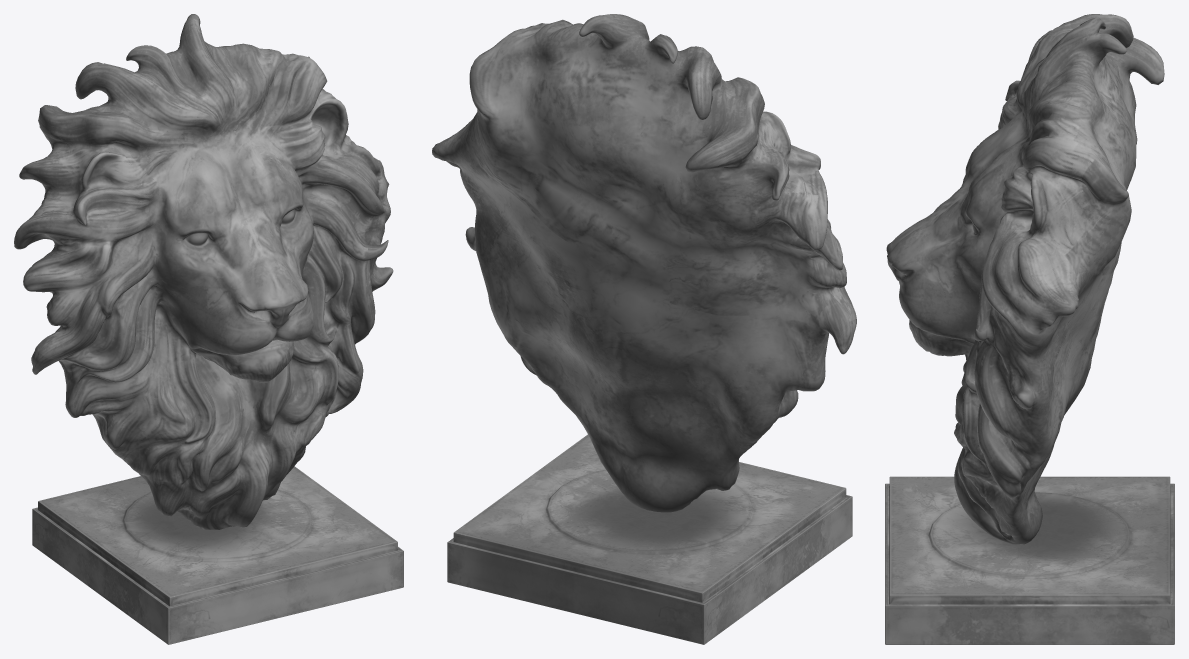
Rendered from lion_head.glb.
3 views of the same model, side by side, from view 1: azimuth 30°, elevation 25°; view 2: azimuth 150°, elevation 25°; view 3: azimuth 270°, elevation 25° (orthographic). The views are drawn at different scales.
Parts seen in each view (by area): view 1: lion_head; view 2: lion_head; view 3: lion_head.
Part boxes in pixels (x1,y1,x2,y2): lion_head: [14, 14, 403, 644]; lion_head: [432, 14, 856, 644]; lion_head: [885, 14, 1174, 644].
Bounding box in the file's own units: 0.3208 × 0.4364 × 0.2066.
1 material, 1 textured.
